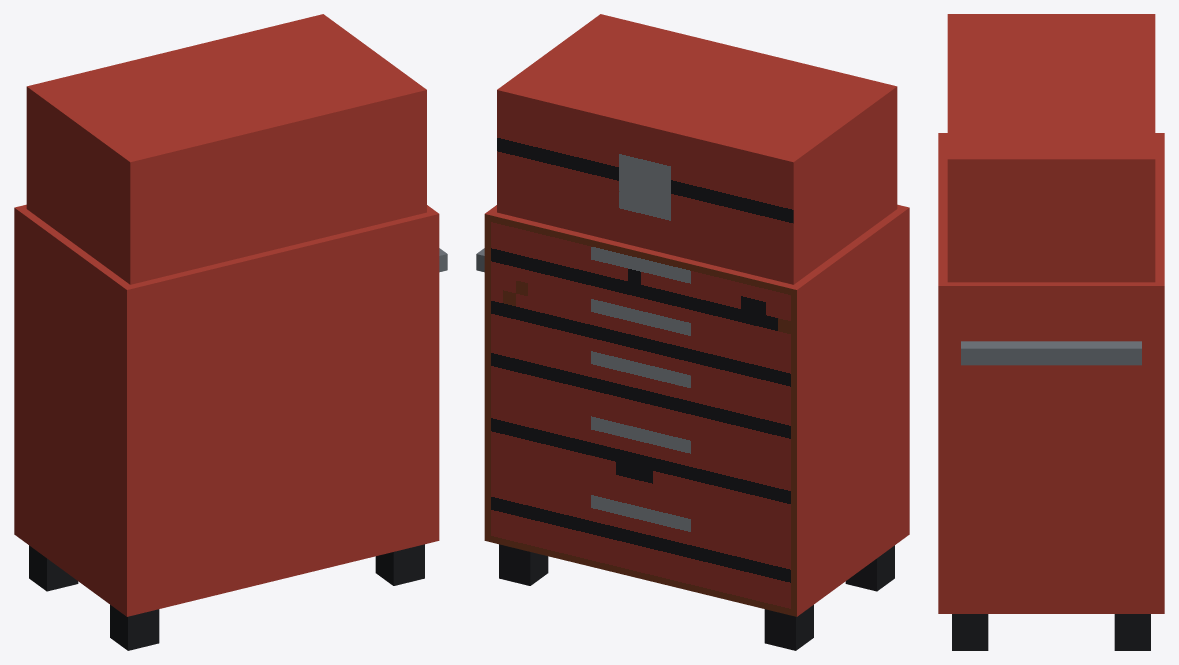
The model's file is toolbox.glb.
3 renders of one model, left to right at view 1: azimuth 30°, elevation 25°; view 2: azimuth 150°, elevation 25°; view 3: azimuth 270°, elevation 25°, orthographic.
Parts seen in each view (by area): view 1: toolbox; view 2: toolbox; view 3: toolbox.
Boxes of the visible parts, box(x1,y1,x2,y2) form: toolbox: box(14, 14, 447, 650); toolbox: box(476, 14, 909, 650); toolbox: box(938, 14, 1164, 650).
Bounding box in the file's own units: 0.85 × 1.2 × 0.5.
4 materials, 4 textured.
